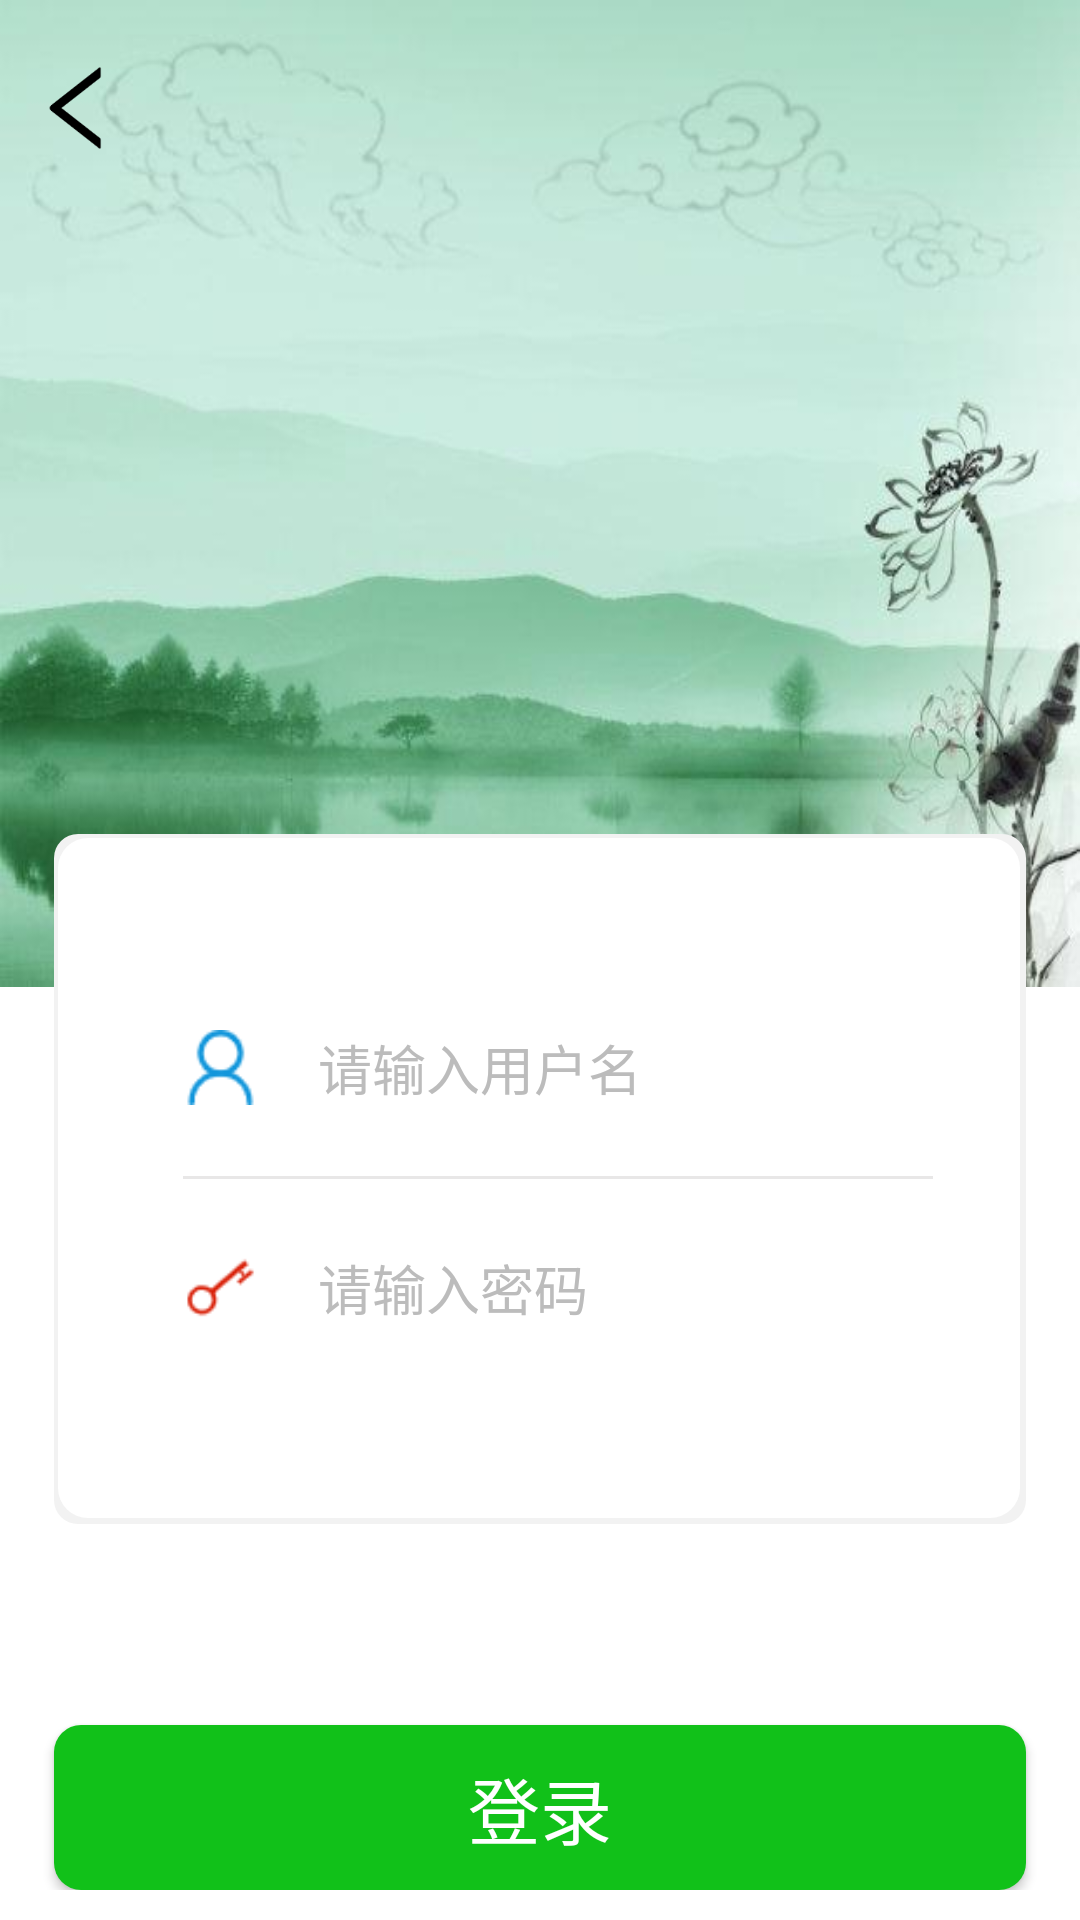

Named icons in this screenshot (1080×1920) and their bounding boxes, (x1, y1, x2, y2):
account: (187, 1030, 254, 1105)
key: (187, 1259, 254, 1316)
left: (49, 67, 118, 149)
